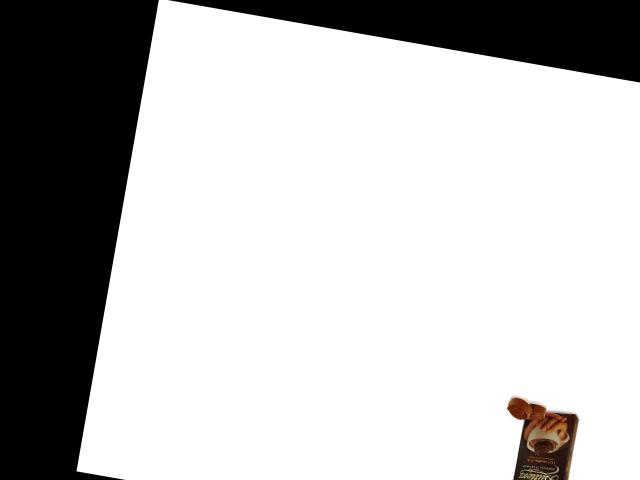chocolate: (502, 401, 583, 480)
